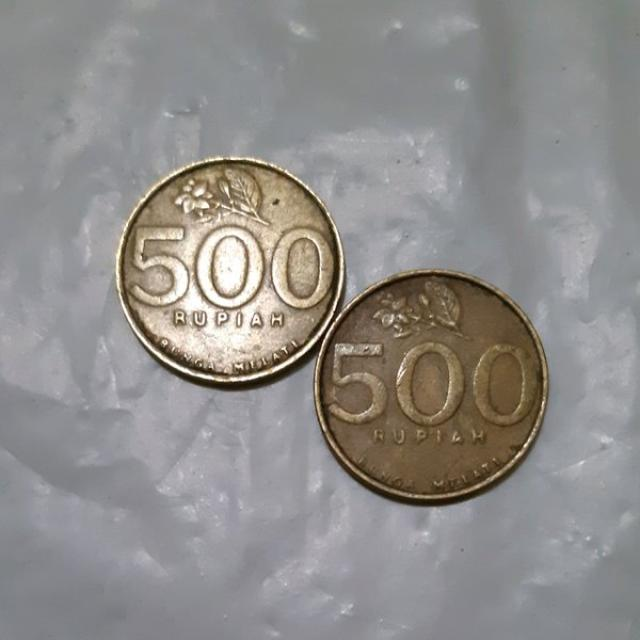500-kuning: (108, 147, 350, 406), (316, 273, 557, 508)
